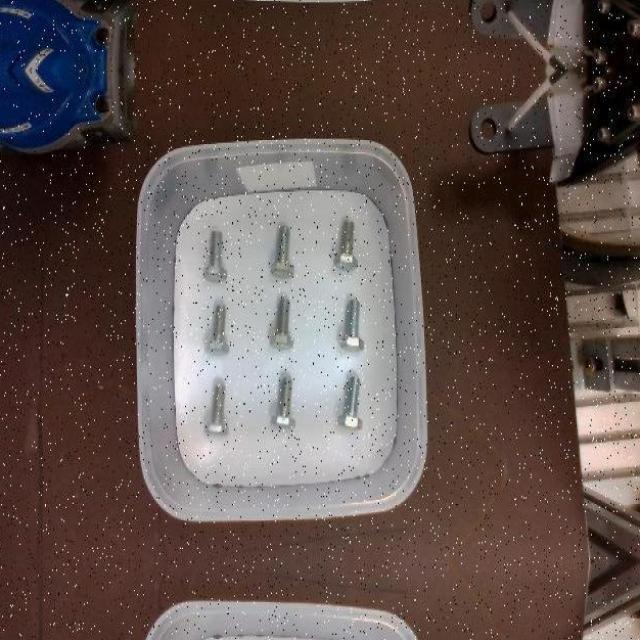screw: (334, 218, 359, 271), (271, 225, 295, 280), (205, 302, 230, 354), (338, 376, 363, 428), (204, 382, 229, 434), (339, 300, 364, 351), (270, 296, 294, 349), (203, 230, 227, 282), (271, 376, 294, 428)
